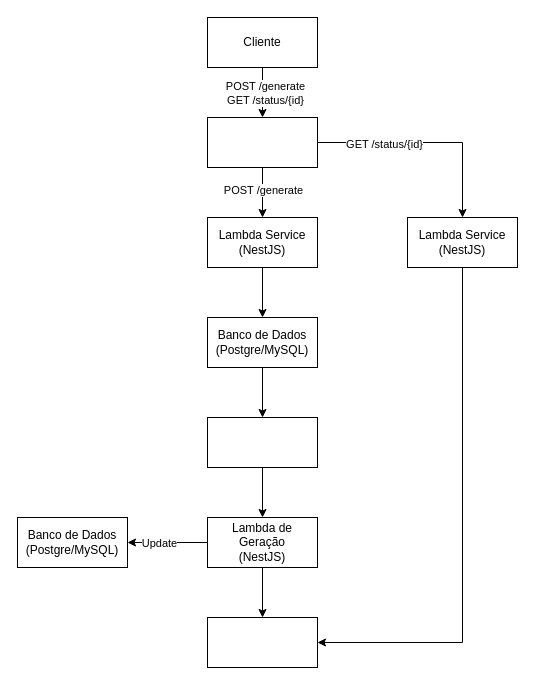
Some shapes in this 535 by 685 pixel diagram are drawn without their labels. Here are the shapes that lost their labels. From the top down, the centre of each, then its label:
point 262,142: Api Gateway
point 262,442: Mensageria (RabbitMQ)
point 262,642: Armazenamento (S3)
